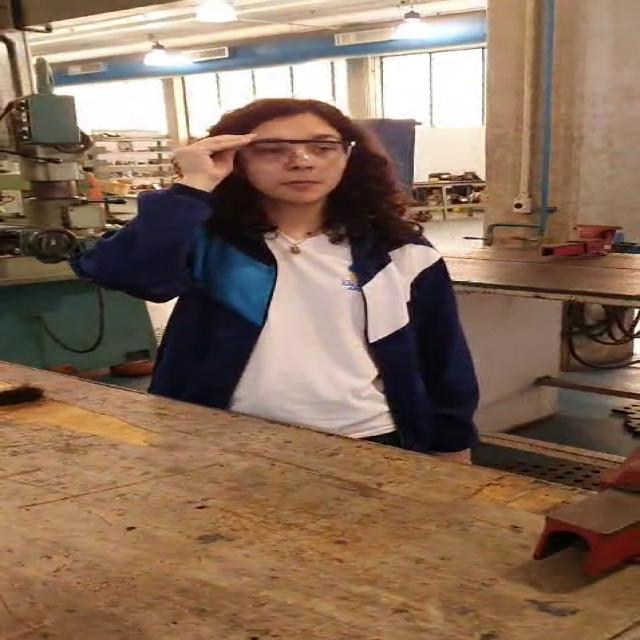oculos-epi: (246, 139, 352, 167)
